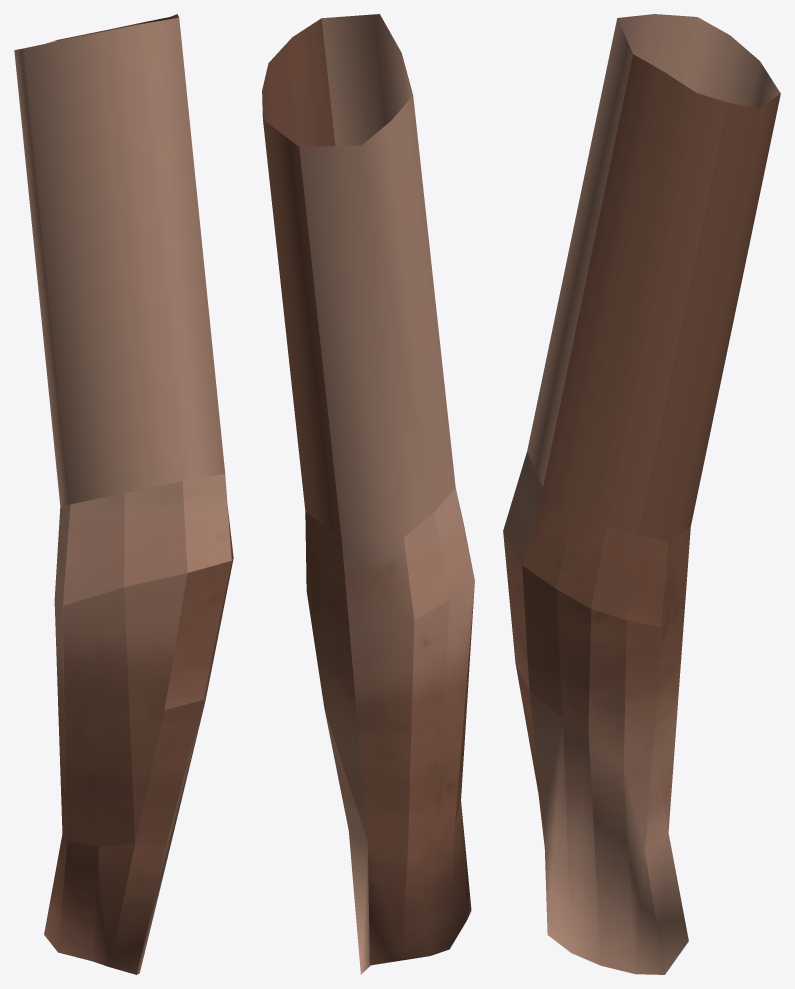
File: armr.fbx
The picture shows the model from 3 angles, left to right: view 1: azimuth 30°, elevation 25°; view 2: azimuth 150°, elevation 25°; view 3: azimuth 270°, elevation 25°; orthographic projection.
Parts seen in each view (by area): view 1: Arm1; view 2: Arm1; view 3: Arm1.
Boxes of the visible parts, x1,y1,x2,y2 form: Arm1: [14, 14, 233, 974]; Arm1: [262, 14, 474, 974]; Arm1: [503, 14, 780, 974].
Bounding box in the file's own units: 7.9 × 43.87 × 11.51.
